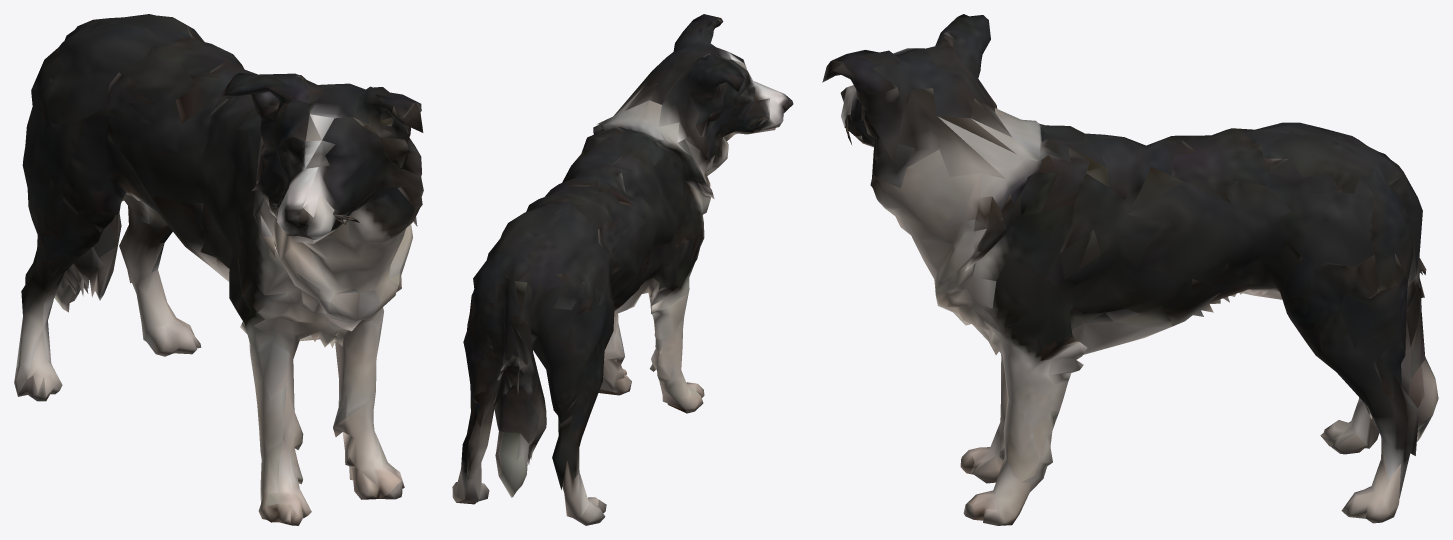
The model's file is dog.glb.
The picture shows the model from 3 angles, left to right: view 1: azimuth 30°, elevation 25°; view 2: azimuth 150°, elevation 25°; view 3: azimuth 270°, elevation 25°; orthographic projection. The views are drawn at different scales.
Visible parts, largest first — view 1: LO.001; view 2: LO.001; view 3: LO.001.
Part boxes in pixels (left/top/right/bottom): LO.001: left=14, top=14, right=423, bottom=525; LO.001: left=452, top=14, right=793, bottom=525; LO.001: left=822, top=14, right=1438, bottom=525.
Size of the model in its own units: 0.3097 by 0.6774 by 0.8615.
Materials: 1 (1 with a texture image).
